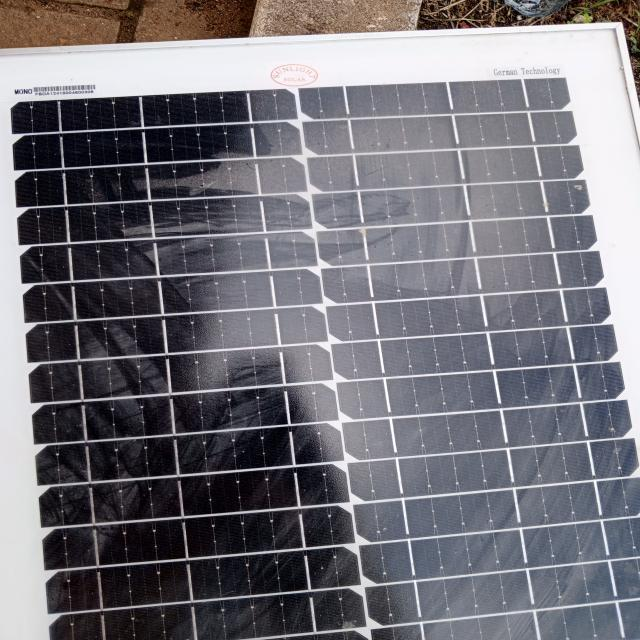Surface Contaminant: (205, 76, 605, 546)
